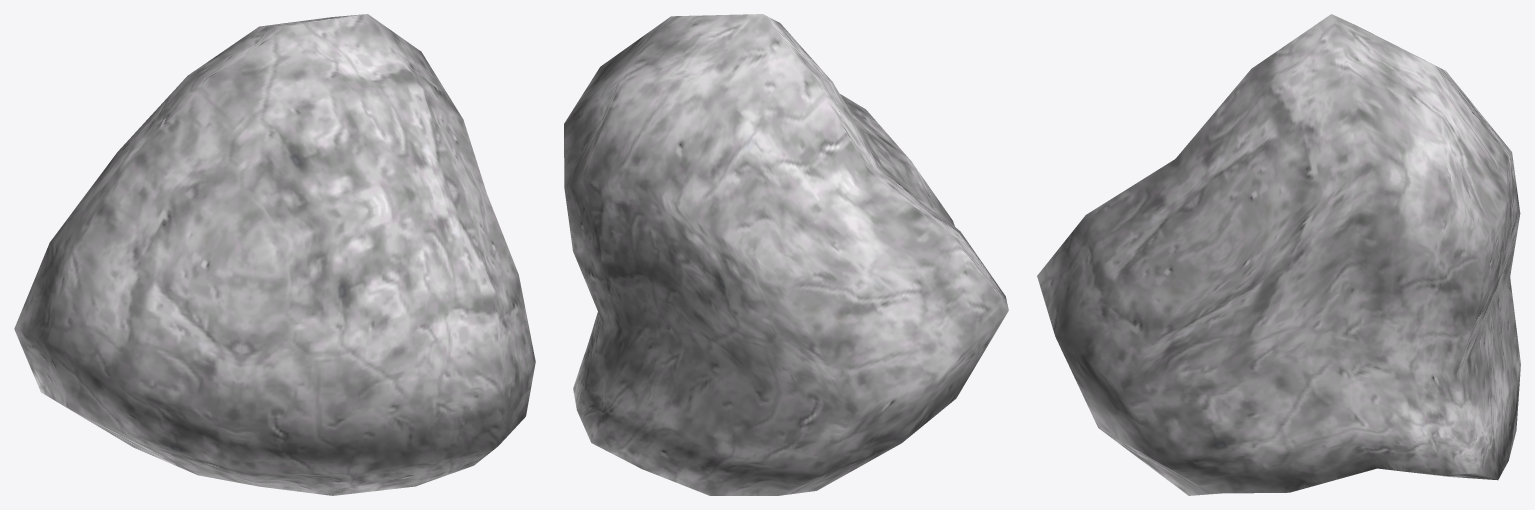
The model's file is INST_TROLLHOLE_ROCKC.fbx.
3 views of the same model, side by side, from view 1: azimuth 30°, elevation 25°; view 2: azimuth 150°, elevation 25°; view 3: azimuth 270°, elevation 25° (orthographic). The views are drawn at different scales.
Parts seen in each view (by area): view 1: INST_TROLLHOLE_ROCKC; view 2: INST_TROLLHOLE_ROCKC; view 3: INST_TROLLHOLE_ROCKC.
Boxes of the visible parts, x1,y1,x2,y2 form: INST_TROLLHOLE_ROCKC: [14, 14, 535, 495]; INST_TROLLHOLE_ROCKC: [564, 14, 1008, 495]; INST_TROLLHOLE_ROCKC: [1037, 14, 1520, 495].
Size of the model in its own units: 21129 by 21129 by 21129.
1 material, 1 textured.
